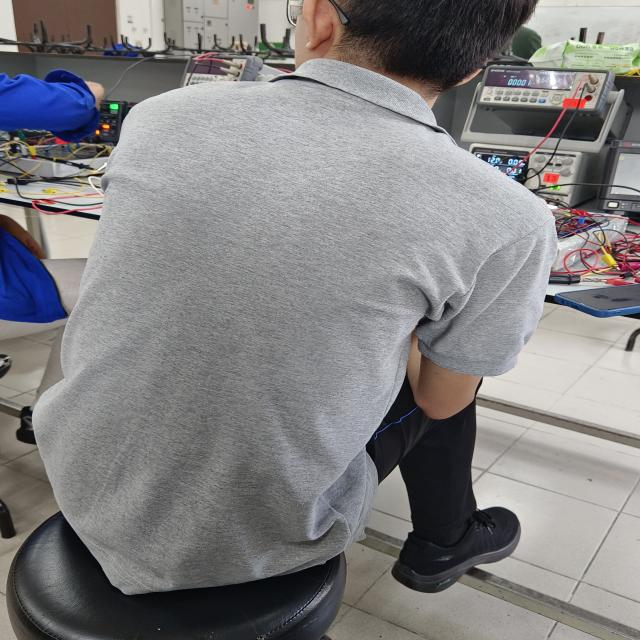person_without_labcoat: (32, 0, 557, 595)
